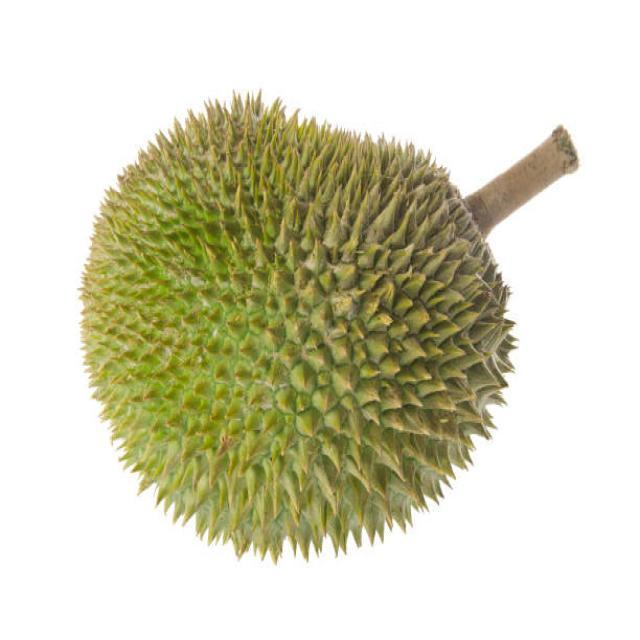immature: (77, 86, 519, 564)
